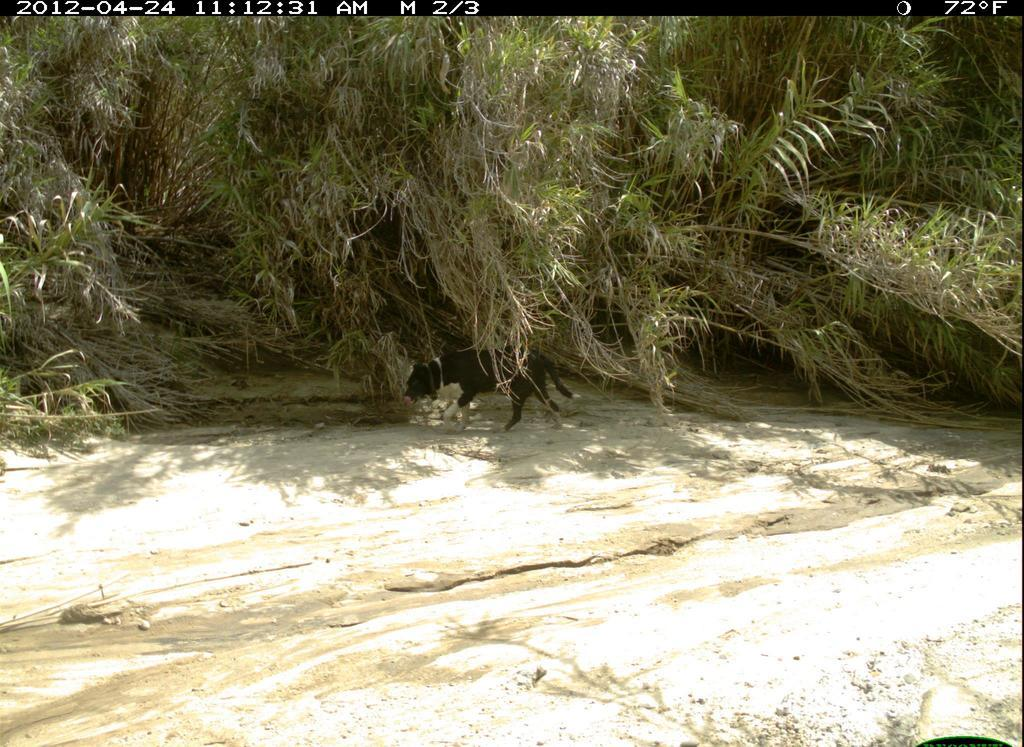dog: (399, 335, 580, 433)
